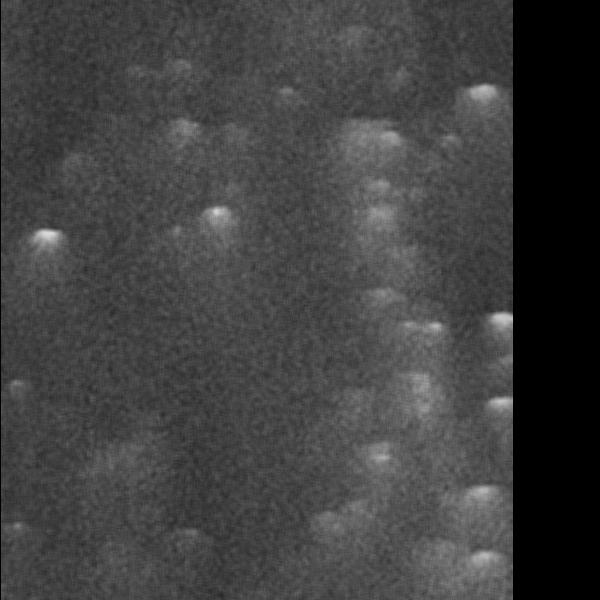spark: (317, 125, 415, 178), (396, 361, 446, 441), (460, 80, 506, 163), (455, 478, 505, 541), (168, 111, 205, 189), (340, 199, 416, 236), (28, 222, 66, 292), (287, 511, 363, 546), (196, 197, 240, 250), (356, 434, 399, 488), (465, 545, 502, 593), (358, 281, 404, 314), (409, 317, 452, 349), (438, 127, 464, 167), (492, 309, 515, 353), (488, 395, 512, 434), (3, 374, 33, 402), (265, 82, 299, 104), (162, 55, 191, 80), (66, 145, 85, 177), (3, 517, 27, 541), (498, 349, 515, 371), (387, 247, 405, 263)
